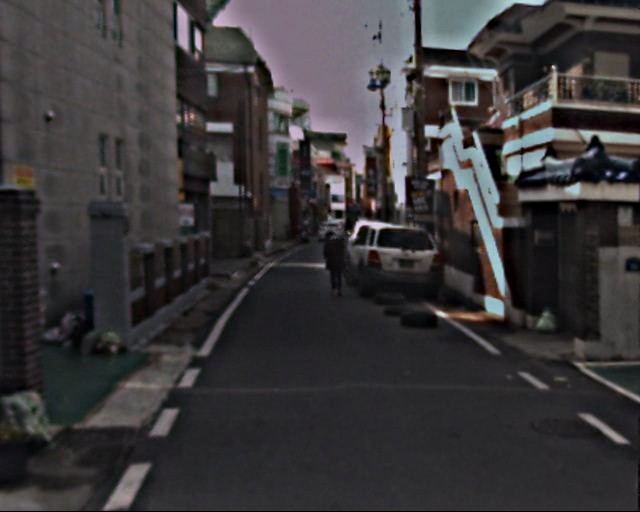person: (322, 227, 353, 303)
